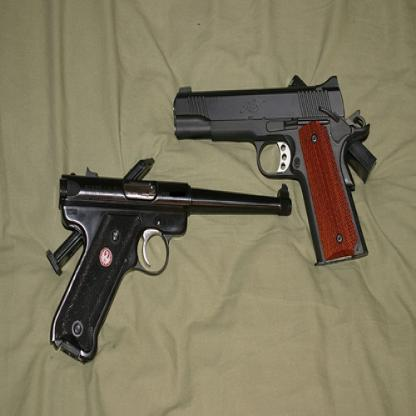pistol: (45, 177, 295, 359), (169, 65, 370, 269)
